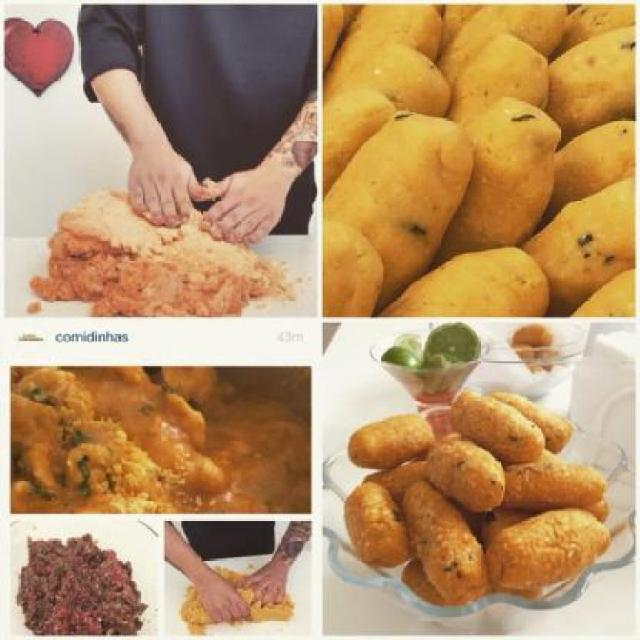Potato: (320, 0, 638, 322), (342, 390, 616, 608), (372, 246, 550, 319)
